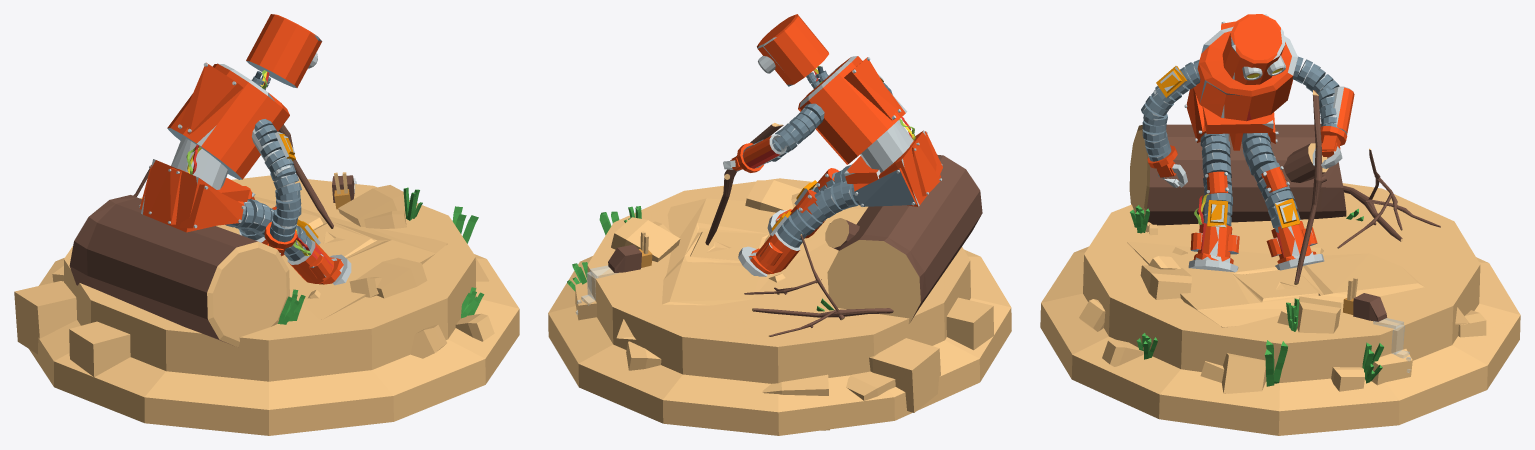
File: scene_PUh69z23Ag.glb
3 views of the same model, side by side, from view 1: azimuth 30°, elevation 25°; view 2: azimuth 150°, elevation 25°; view 3: azimuth 270°, elevation 25° (orthographic). The views are drawn at different scales.
Parts seen in each view (by area): view 1: group1193854987, group651123543, group1904112472, group1681087908, group1158868282, group1685232596, group1738848227, group1936808802, group2077078345, group2122962277, group686300414, group2099430332 (+9 smaller); view 2: group1193854987, group651123543, group1904112472, group1681087908, group1685232596, group1158868282, group1257290051, group1007166214, group1738848227, group1383533153, group186215892, group1936808802 (+14 smaller); view 3: group1193854987, group1904112472, group651123543, group1681087908, group1158868282, group1007166214, group2122962277, group1257290051, group810140203, group186215892, group2099430332, group1296368468 (+17 smaller).
Boxes of the visible parts, x1,y1,x2,y2 form: group1193854987: (29, 175, 519, 435); group651123543: (69, 195, 289, 347); group1904112472: (216, 196, 447, 319); group1681087908: (167, 63, 289, 179); group1158868282: (246, 14, 322, 87); group1685232596: (14, 281, 76, 354); group1738848227: (69, 321, 130, 381); group1936808802: (178, 62, 242, 134); group2077078345: (141, 159, 218, 232); group2122962277: (254, 208, 343, 284); group686300414: (180, 184, 245, 228); group2099430332: (355, 257, 427, 298); group1193854987: (548, 178, 1011, 435); group651123543: (827, 154, 982, 323); group1904112472: (616, 198, 865, 339); group1681087908: (798, 56, 907, 164); group1685232596: (869, 338, 940, 412); group1158868282: (757, 14, 828, 86); group1257290051: (748, 190, 835, 274); group1007166214: (723, 103, 824, 172); group1738848227: (946, 297, 993, 350); group1383533153: (853, 168, 916, 206); group186215892: (611, 217, 680, 262); group1936808802: (844, 57, 901, 121); group1193854987: (1040, 183, 1520, 435); group1904112472: (1127, 241, 1469, 327); group651123543: (1129, 124, 1346, 225); group1681087908: (1193, 26, 1297, 121); group1158868282: (1222, 14, 1285, 84); group1007166214: (1292, 56, 1354, 168); group2122962277: (1190, 162, 1239, 263); group1257290051: (1253, 162, 1317, 263); group810140203: (1222, 353, 1266, 393); group186215892: (1297, 296, 1341, 333); group2099430332: (1140, 265, 1191, 299); group1296368468: (1294, 90, 1326, 284).
Size of the model in its own units: 2.74 by 2.08 by 2.74.
